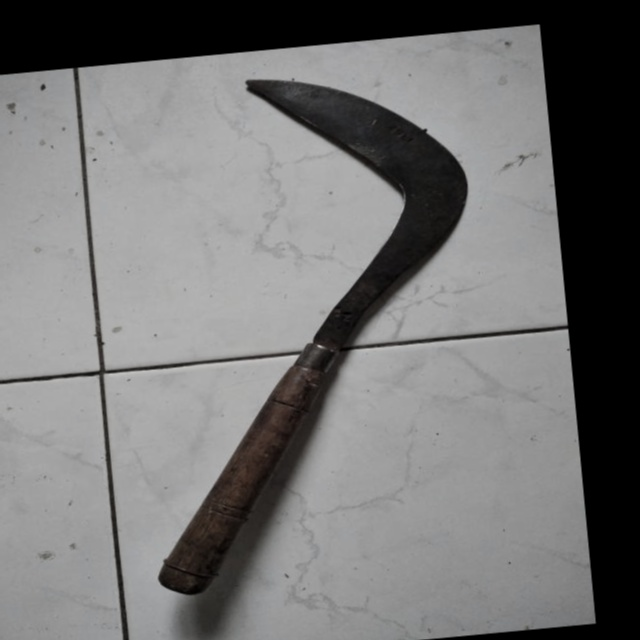Sharp-Object: (108, 48, 515, 611)
